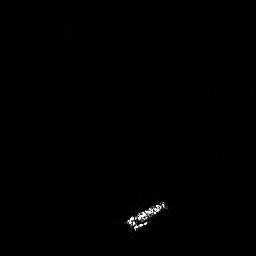ship: (126, 202, 167, 230)
